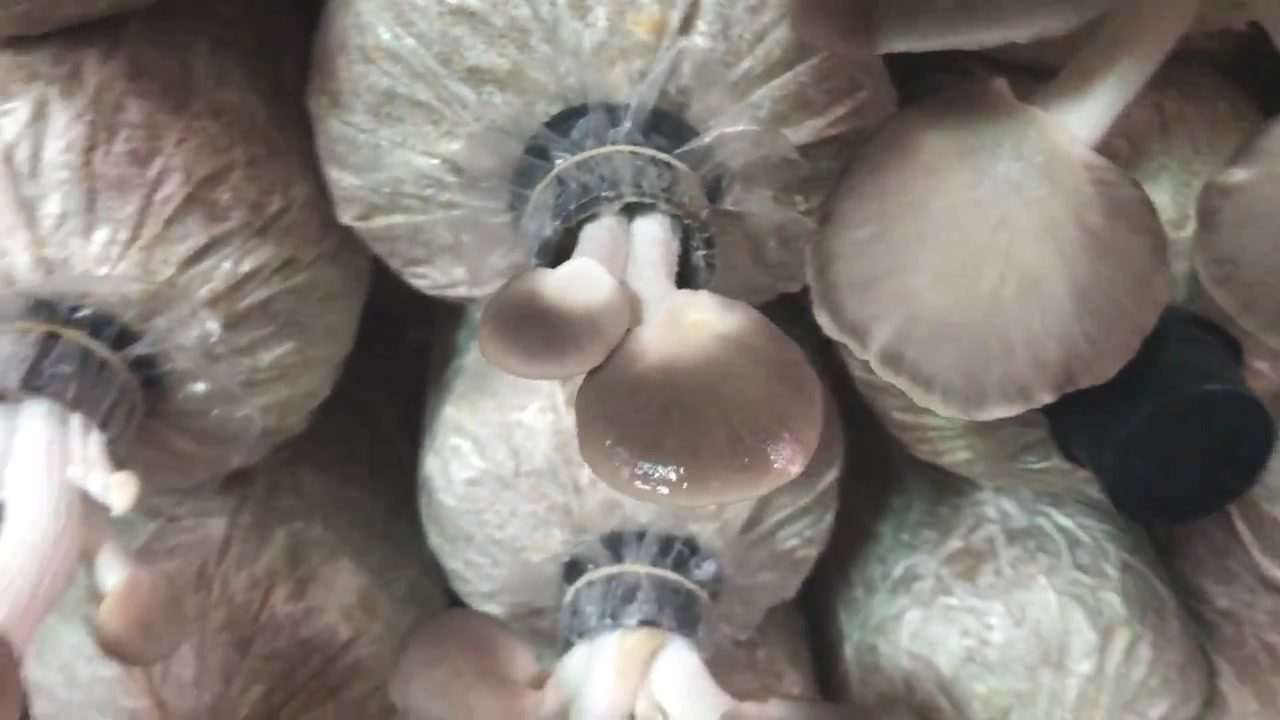nam: (789, 2, 1280, 423), (474, 125, 828, 512), (2, 291, 191, 718), (385, 541, 786, 720)
